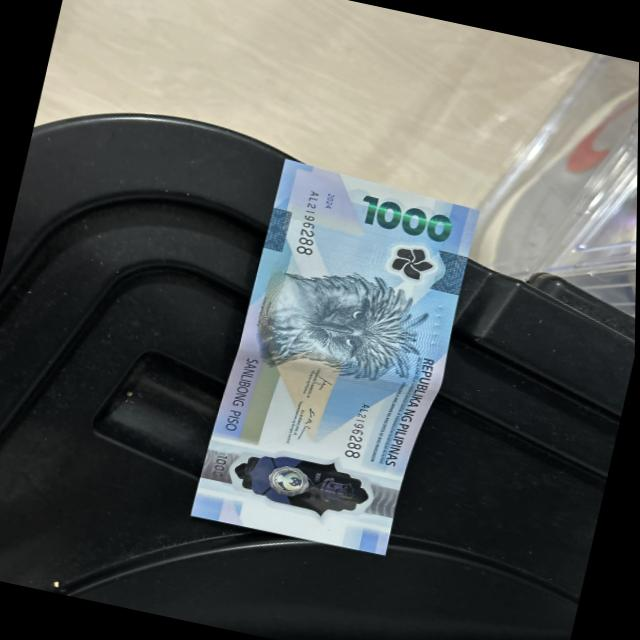clear_window: (228, 438, 372, 524)
eagle: (255, 262, 414, 382)
sampaguita: (385, 238, 440, 284)
serial_number: (284, 179, 338, 261), (336, 389, 380, 470)
